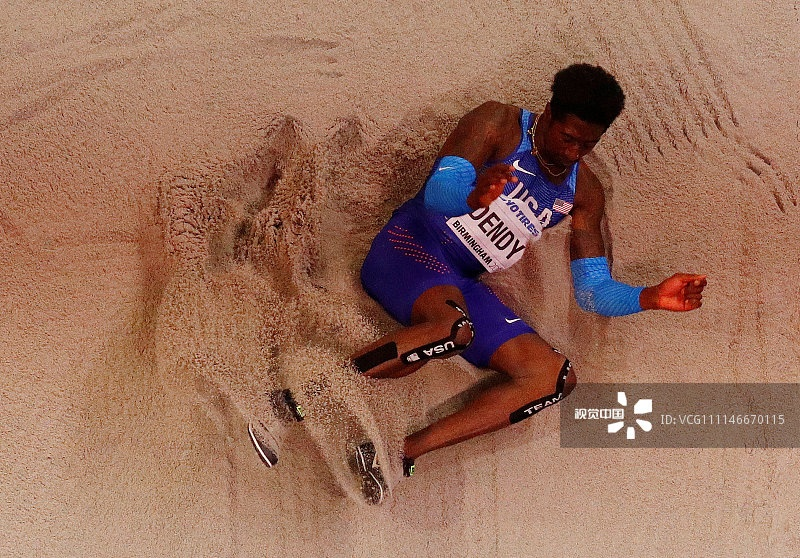falling: (219, 57, 755, 493)
